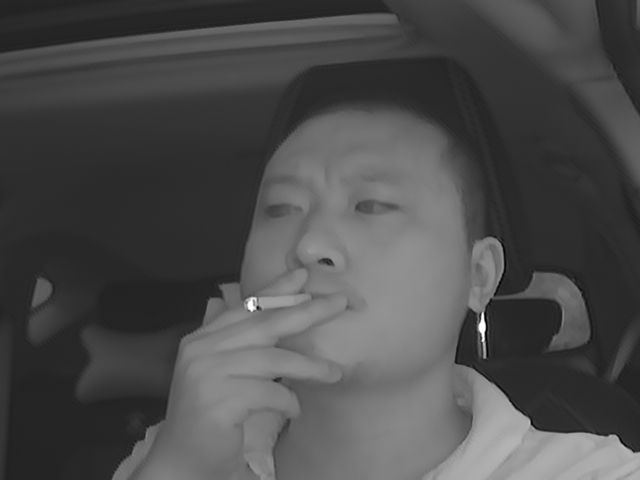hand: (180, 267, 352, 438)
